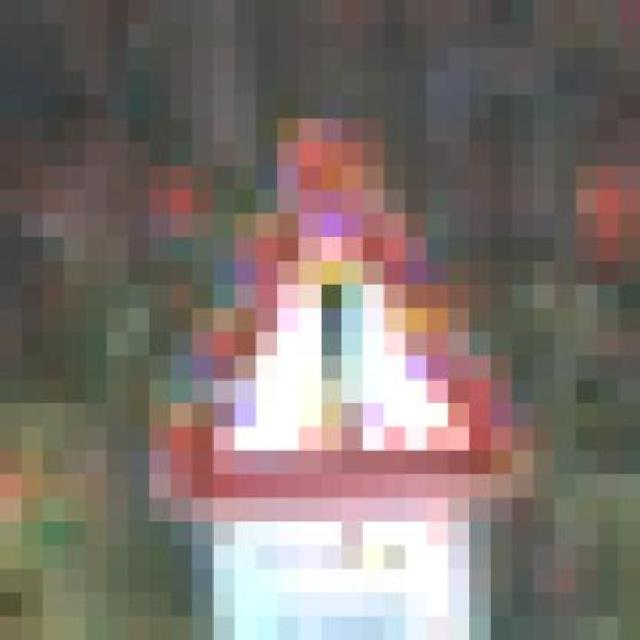Attention Please-: (106, 94, 534, 546)
